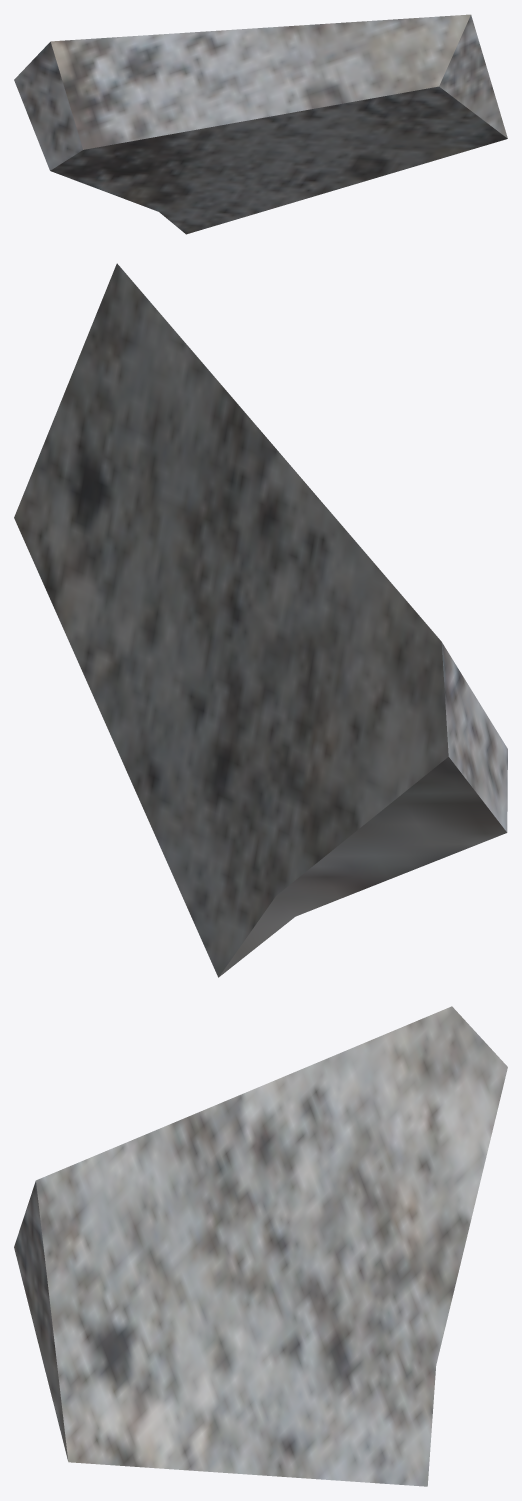
File: Asteroid_Large_001_02_005_03_014.fbx
3 views of the same model, one above another, from view 1: azimuth 30°, elevation 25°; view 2: azimuth 150°, elevation 25°; view 3: azimuth 270°, elevation 25° (orthographic). The views are drawn at different scales.
Visible parts, largest first — view 1: Asteroid_Large_001_02_005_03_014; view 2: Asteroid_Large_001_02_005_03_014; view 3: Asteroid_Large_001_02_005_03_014.
Boxes of the visible parts, x1,y1,x2,y2 form: Asteroid_Large_001_02_005_03_014: (14,14,507,234); Asteroid_Large_001_02_005_03_014: (14,263,507,977); Asteroid_Large_001_02_005_03_014: (14,1006,507,1486).
Size of the model in its own units: 4.1 by 2.82 by 2.82.
